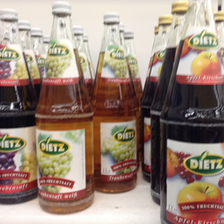juice: (158, 1, 224, 223), (35, 2, 95, 214), (90, 13, 138, 196), (1, 8, 37, 205)
